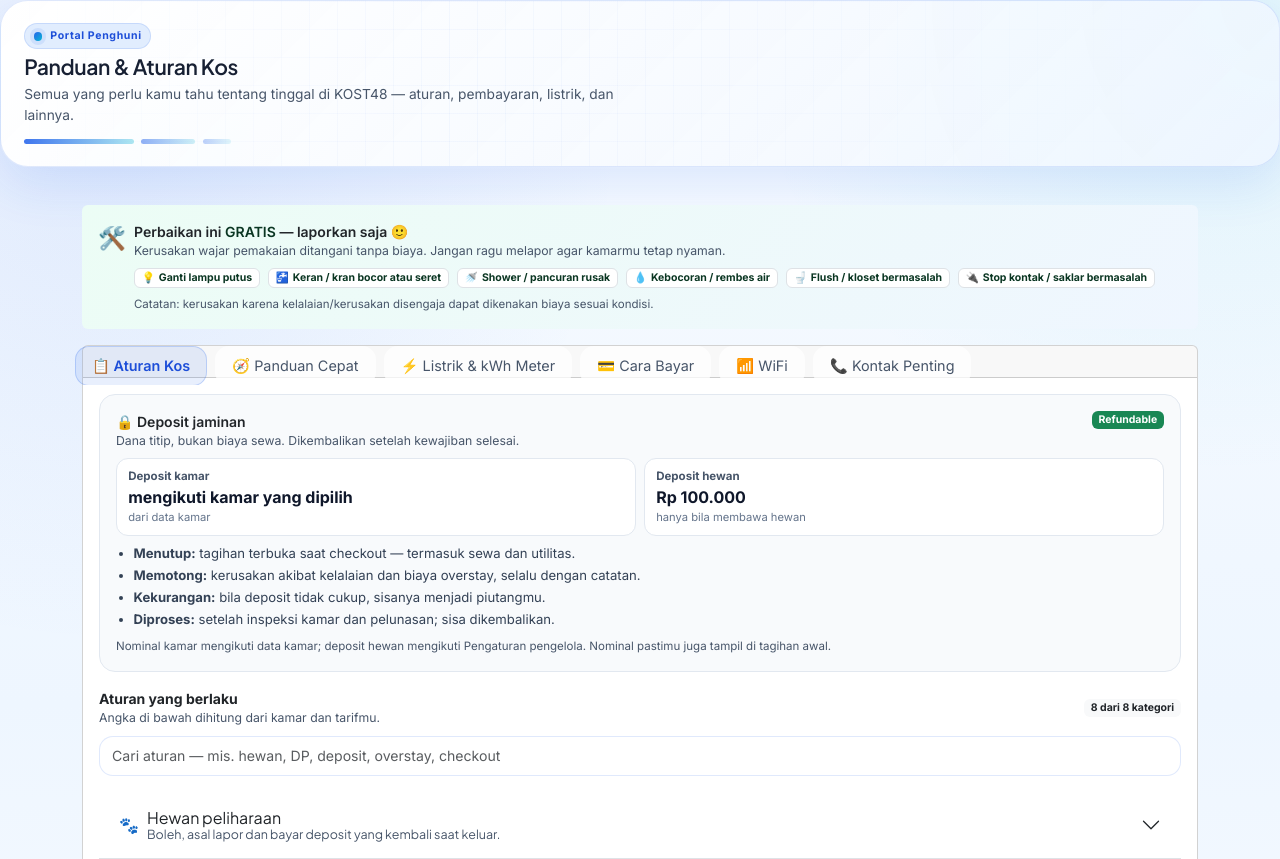
Test: Y-P3 — MyManualPage (tenant portal integration) › pencarian menyaring kategori
Type "KTP" into the search field labelled "Cari aturan — mis. hewan, DP, deposit, overstay, checkout".
click(640, 756); type("KTP")  # box [99,736,1181,776]
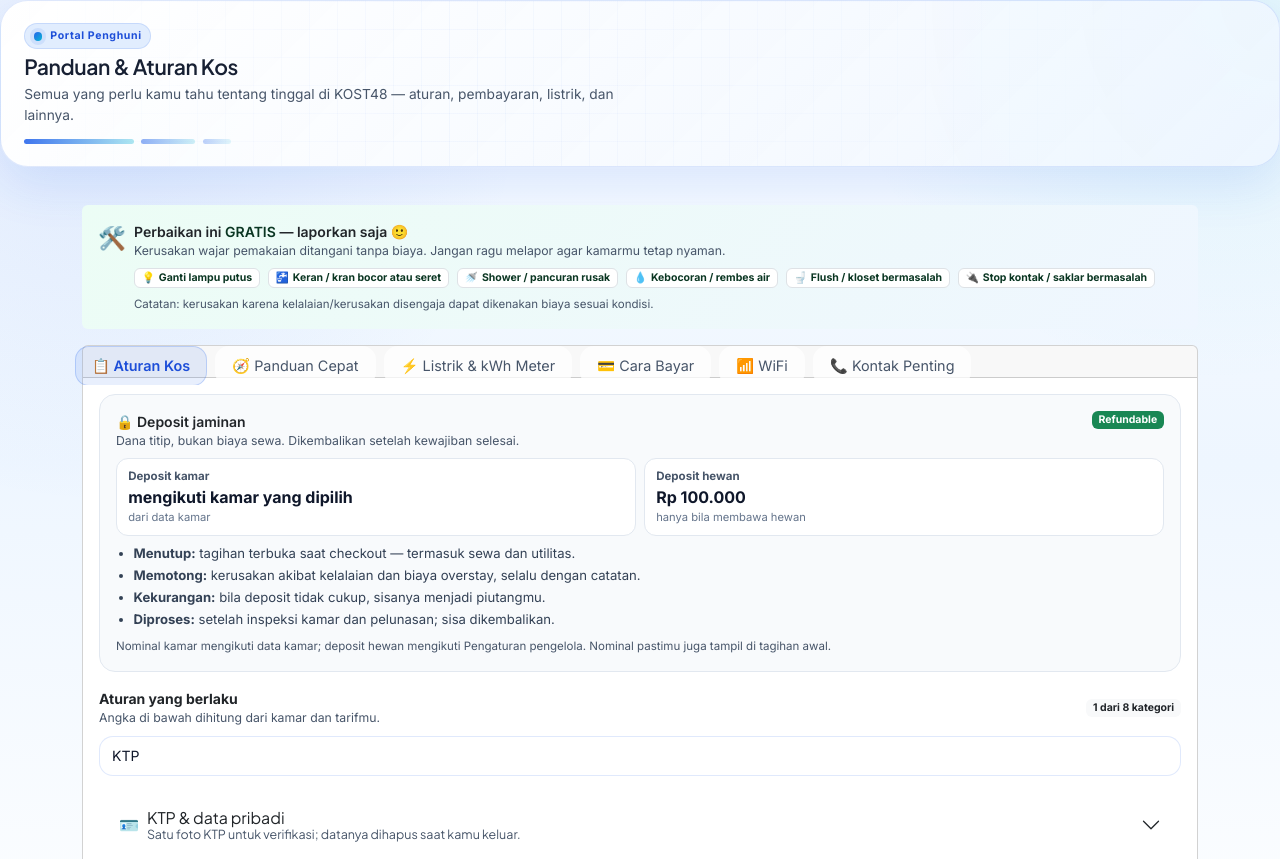
expect the text "KTP & data pribadi" is shown: met, box [147,807,285,828]
expect the button "Hewan peliharaan" is gone: met
expect the text "1 dari 8 kategori" is shown: met, box [1086,699,1181,717]
